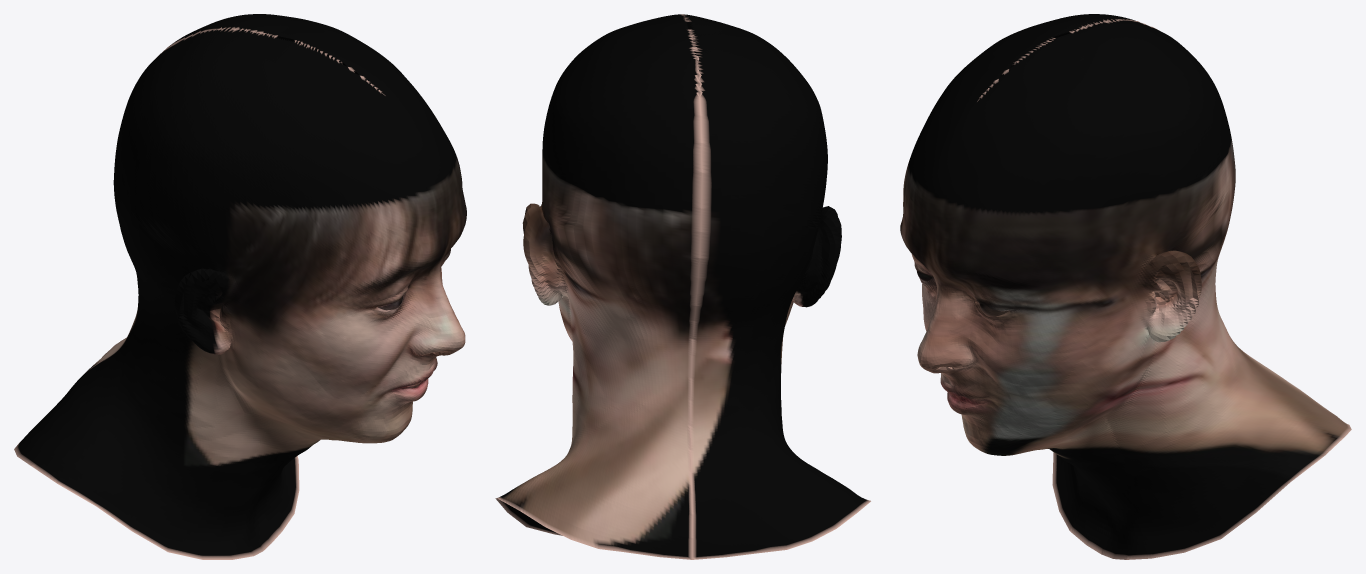
Rendered from mesh_coarse_detail.obj.
3 renders of one model, left to right at view 1: azimuth 30°, elevation 25°; view 2: azimuth 150°, elevation 25°; view 3: azimuth 270°, elevation 25°, orthographic.
Bounding box in the file's own units: 0.2302 × 0.3243 × 0.256.
